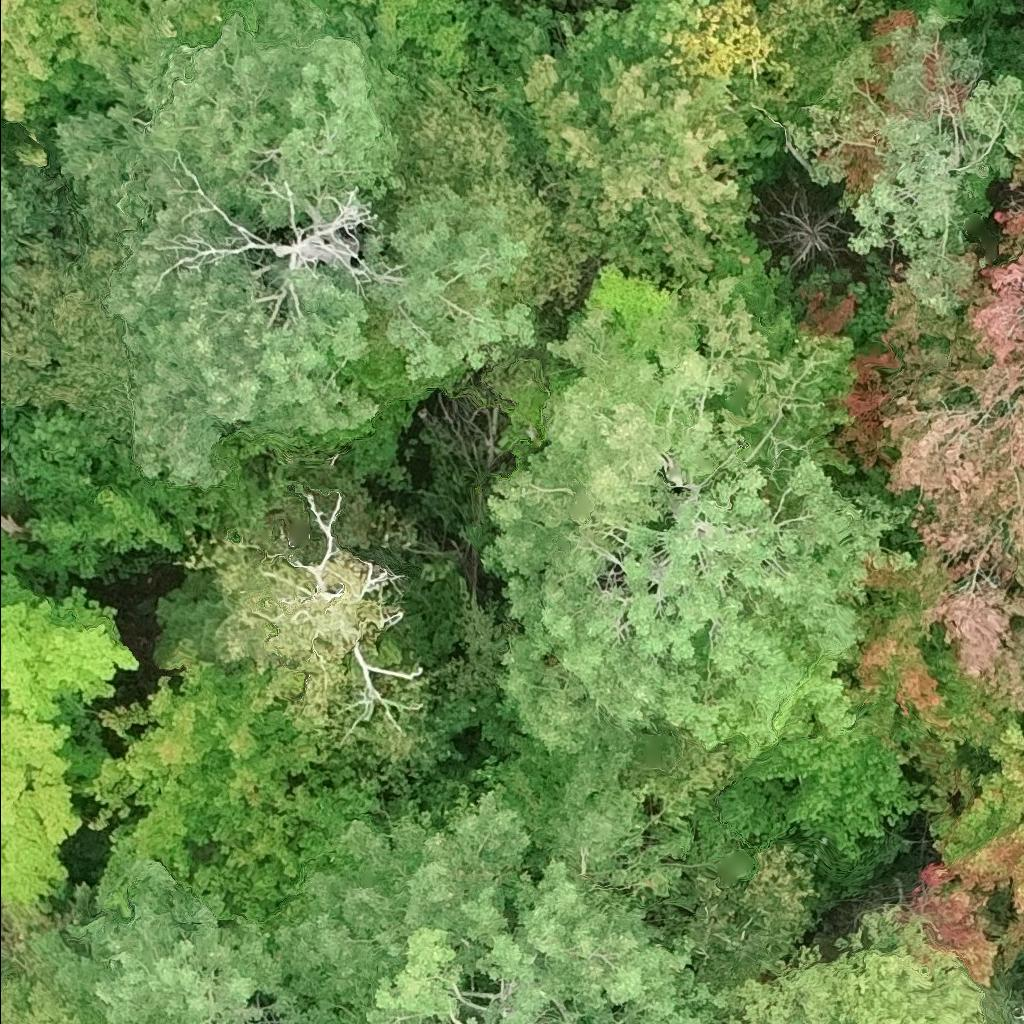crown: (59, 0, 534, 488), (486, 282, 904, 760), (301, 757, 748, 1023), (519, 0, 769, 288), (891, 195, 1023, 703), (852, 7, 1021, 305), (197, 538, 412, 763), (29, 866, 327, 1023), (0, 580, 138, 903), (859, 730, 1023, 984), (721, 953, 984, 1023), (0, 0, 141, 120), (0, 955, 106, 1023)
